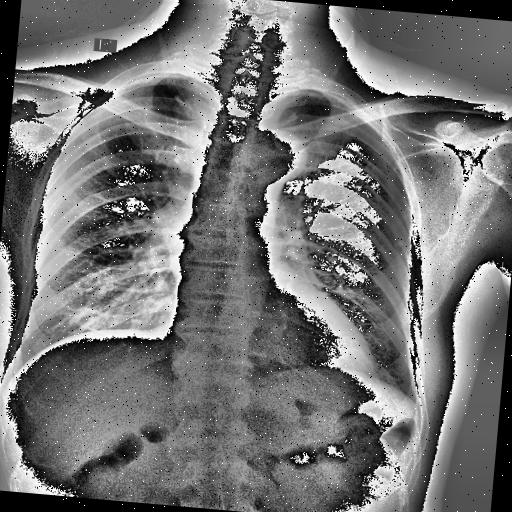0- Aortic enlargement: (238, 126, 308, 194), (244, 127, 309, 191), (240, 127, 306, 178)
8- Nodule-Mass: (395, 240, 405, 249)
